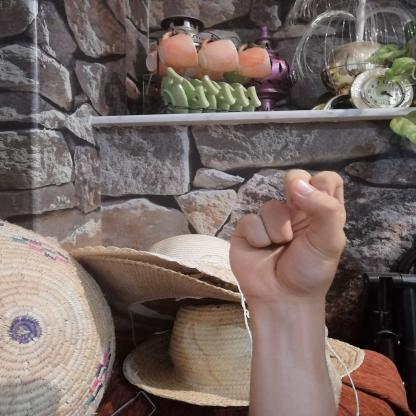QAAF: (215, 158, 364, 314)
